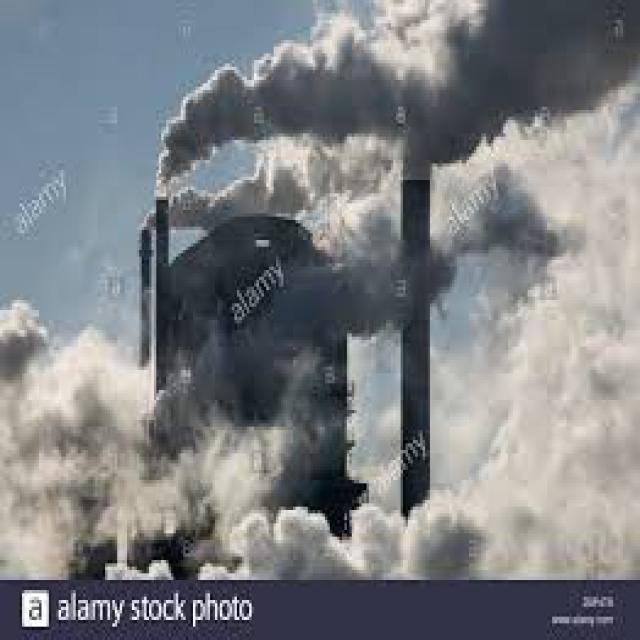Smoke: (0, 0, 640, 579)
